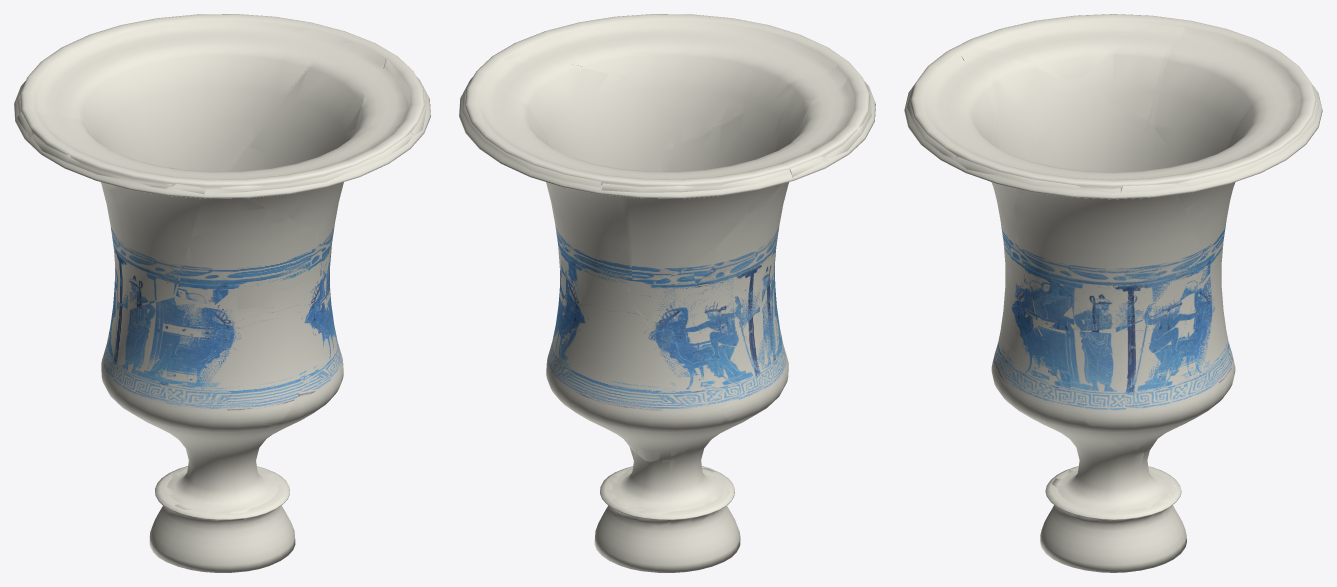
File: Vase.fbx
3 renders of one model, left to right at view 1: azimuth 30°, elevation 25°; view 2: azimuth 150°, elevation 25°; view 3: azimuth 270°, elevation 25°, orthographic.
Parts seen in each view (by area): view 1: Vase.001, Vase.001_cell.008.Render, Vase.001_cell.006.Render, Vase.001_cell.004.Render, Vase.001_cell.010.Render, Vase.001_cell.007.Render, Vase.001_cell.002.Render, Vase.001_cell.011.Render, Vase.001_cell.005.Render, Vase.001_cell.003.Render, Vase.001_cell.009.Render, Vase.001_cell.Render; view 2: Vase.001, Vase.001_cell.012.Render, Vase.001_cell.011.Render, Vase.001_cell.002.Render, Vase.001_cell.004.Render, Vase.001_cell.005.Render, Vase.001_cell.007.Render, Vase.001_cell.006.Render, Vase.001_cell.008.Render, Vase.001_cell.003.Render, Vase.001_cell.010.Render, Vase.001_cell.009.Render (+1 smaller); view 3: Vase.001, Vase.001_cell.007.Render, Vase.001_cell.012.Render, Vase.001_cell.004.Render, Vase.001_cell.002.Render, Vase.001_cell.005.Render, Vase.001_cell.006.Render, Vase.001_cell.011.Render, Vase.001_cell.003.Render, Vase.001_cell.009.Render, Vase.001_cell.010.Render, Vase.001_cell.Render.
Part boxes in pixels (left/top/right/bottom): Vase.001: left=14, top=14, right=430, bottom=570; Vase.001_cell.008.Render: left=101, top=297, right=322, bottom=437; Vase.001_cell.006.Render: left=99, top=21, right=345, bottom=171; Vase.001_cell.004.Render: left=149, top=307, right=343, bottom=572; Vase.001_cell.010.Render: left=176, top=198, right=326, bottom=311; Vase.001_cell.007.Render: left=231, top=41, right=385, bottom=299; Vase.001_cell.002.Render: left=102, top=167, right=207, bottom=304; Vase.001_cell.011.Render: left=205, top=126, right=413, bottom=223; Vase.001_cell.005.Render: left=17, top=67, right=152, bottom=162; Vase.001_cell.003.Render: left=32, top=130, right=171, bottom=188; Vase.001_cell.009.Render: left=16, top=111, right=116, bottom=187; Vase.001_cell.Render: left=362, top=59, right=426, bottom=135; Vase.001: left=459, top=14, right=875, bottom=572; Vase.001_cell.012.Render: left=546, top=271, right=732, bottom=461; Vase.001_cell.011.Render: left=631, top=21, right=841, bottom=141; Vase.001_cell.002.Render: left=625, top=67, right=847, bottom=343; Vase.001_cell.004.Render: left=594, top=434, right=739, bottom=572; Vase.001_cell.005.Render: left=601, top=159, right=789, bottom=279; Vase.001_cell.007.Render: left=467, top=60, right=673, bottom=270; Vase.001_cell.006.Render: left=462, top=85, right=629, bottom=283; Vase.001_cell.008.Render: left=682, top=265, right=788, bottom=424; Vase.001_cell.003.Render: left=792, top=81, right=871, bottom=158; Vase.001_cell.010.Render: left=667, top=81, right=799, bottom=171; Vase.001_cell.009.Render: left=747, top=142, right=829, bottom=213; Vase.001: left=904, top=14, right=1322, bottom=571; Vase.001_cell.007.Render: left=1011, top=168, right=1208, bottom=330; Vase.001_cell.012.Render: left=1037, top=266, right=1234, bottom=452; Vase.001_cell.004.Render: left=992, top=327, right=1186, bottom=572; Vase.001_cell.002.Render: left=961, top=46, right=1178, bottom=172; Vase.001_cell.005.Render: left=1150, top=29, right=1315, bottom=164; Vase.001_cell.006.Render: left=1168, top=85, right=1319, bottom=268; Vase.001_cell.011.Render: left=907, top=52, right=1000, bottom=191; Vase.001_cell.003.Render: left=982, top=21, right=1139, bottom=83; Vase.001_cell.009.Render: left=1091, top=22, right=1184, bottom=119; Vase.001_cell.010.Render: left=989, top=75, right=1040, bottom=319; Vase.001_cell.Render: left=955, top=153, right=1119, bottom=192.
Size of what is drawn, in the model's own units: 0.4502 by 0.4502 by 0.5264.
